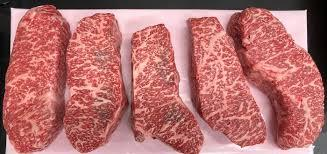beef: (118, 2, 165, 35), (96, 4, 131, 34), (34, 3, 64, 37), (6, 2, 32, 36), (67, 6, 94, 36)
